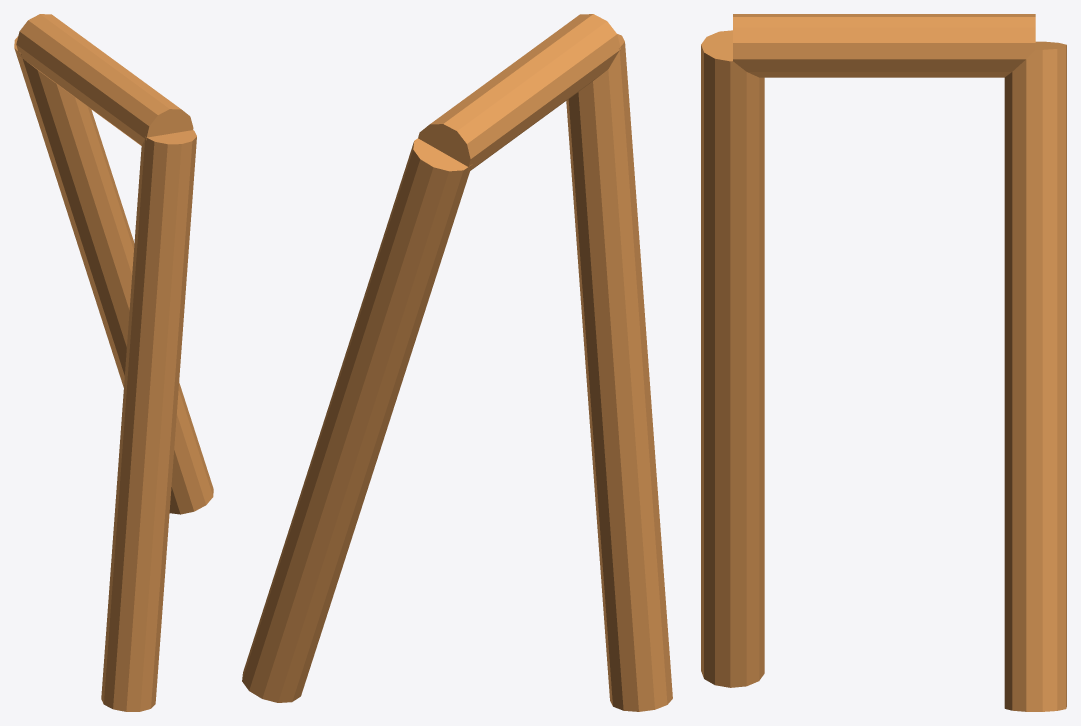
File: motor-harness.glb
3 views of the same model, side by side, from view 1: azimuth 30°, elevation 25°; view 2: azimuth 150°, elevation 25°; view 3: azimuth 270°, elevation 25° (orthographic). The views are drawn at different scales.
Parts seen in each view (by area): view 1: motor-harness; view 2: motor-harness; view 3: motor-harness.
Boxes of the visible parts, x1,y1,x2,y2 form: motor-harness: (14,14,213,711); motor-harness: (242,14,672,711); motor-harness: (701,14,1066,711).
Bounding box in the file's own units: 3.97 × 9.43 × 4.59.
